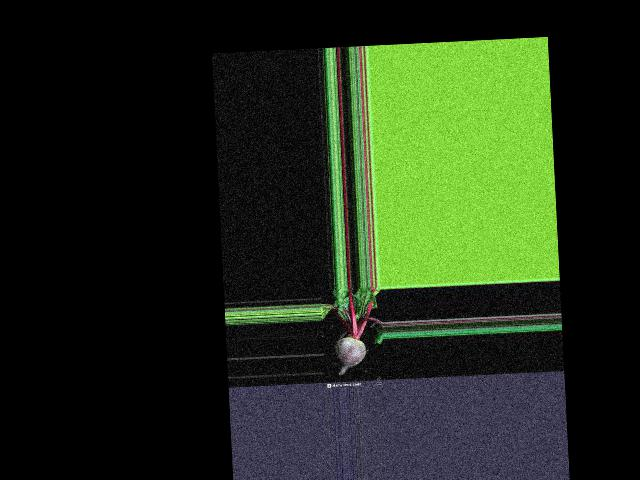beet: (320, 286, 385, 376)
